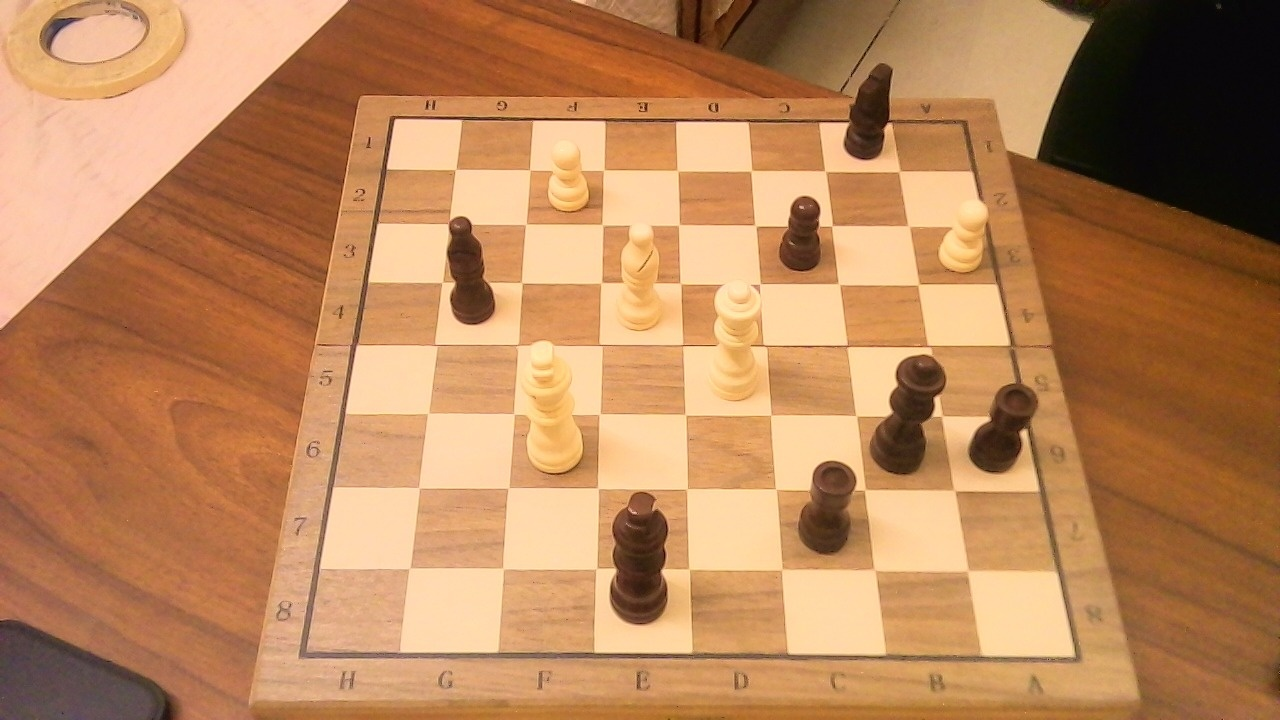B: (608, 211, 673, 336)
K: (516, 329, 591, 478)
P: (932, 190, 996, 275), (537, 131, 595, 215)
Q: (696, 268, 769, 407)
b: (442, 203, 509, 329)
k: (602, 476, 685, 630)
n: (836, 50, 901, 164)
p: (772, 183, 832, 275)
q: (867, 339, 957, 478)
r: (963, 370, 1048, 477), (791, 448, 868, 557)
